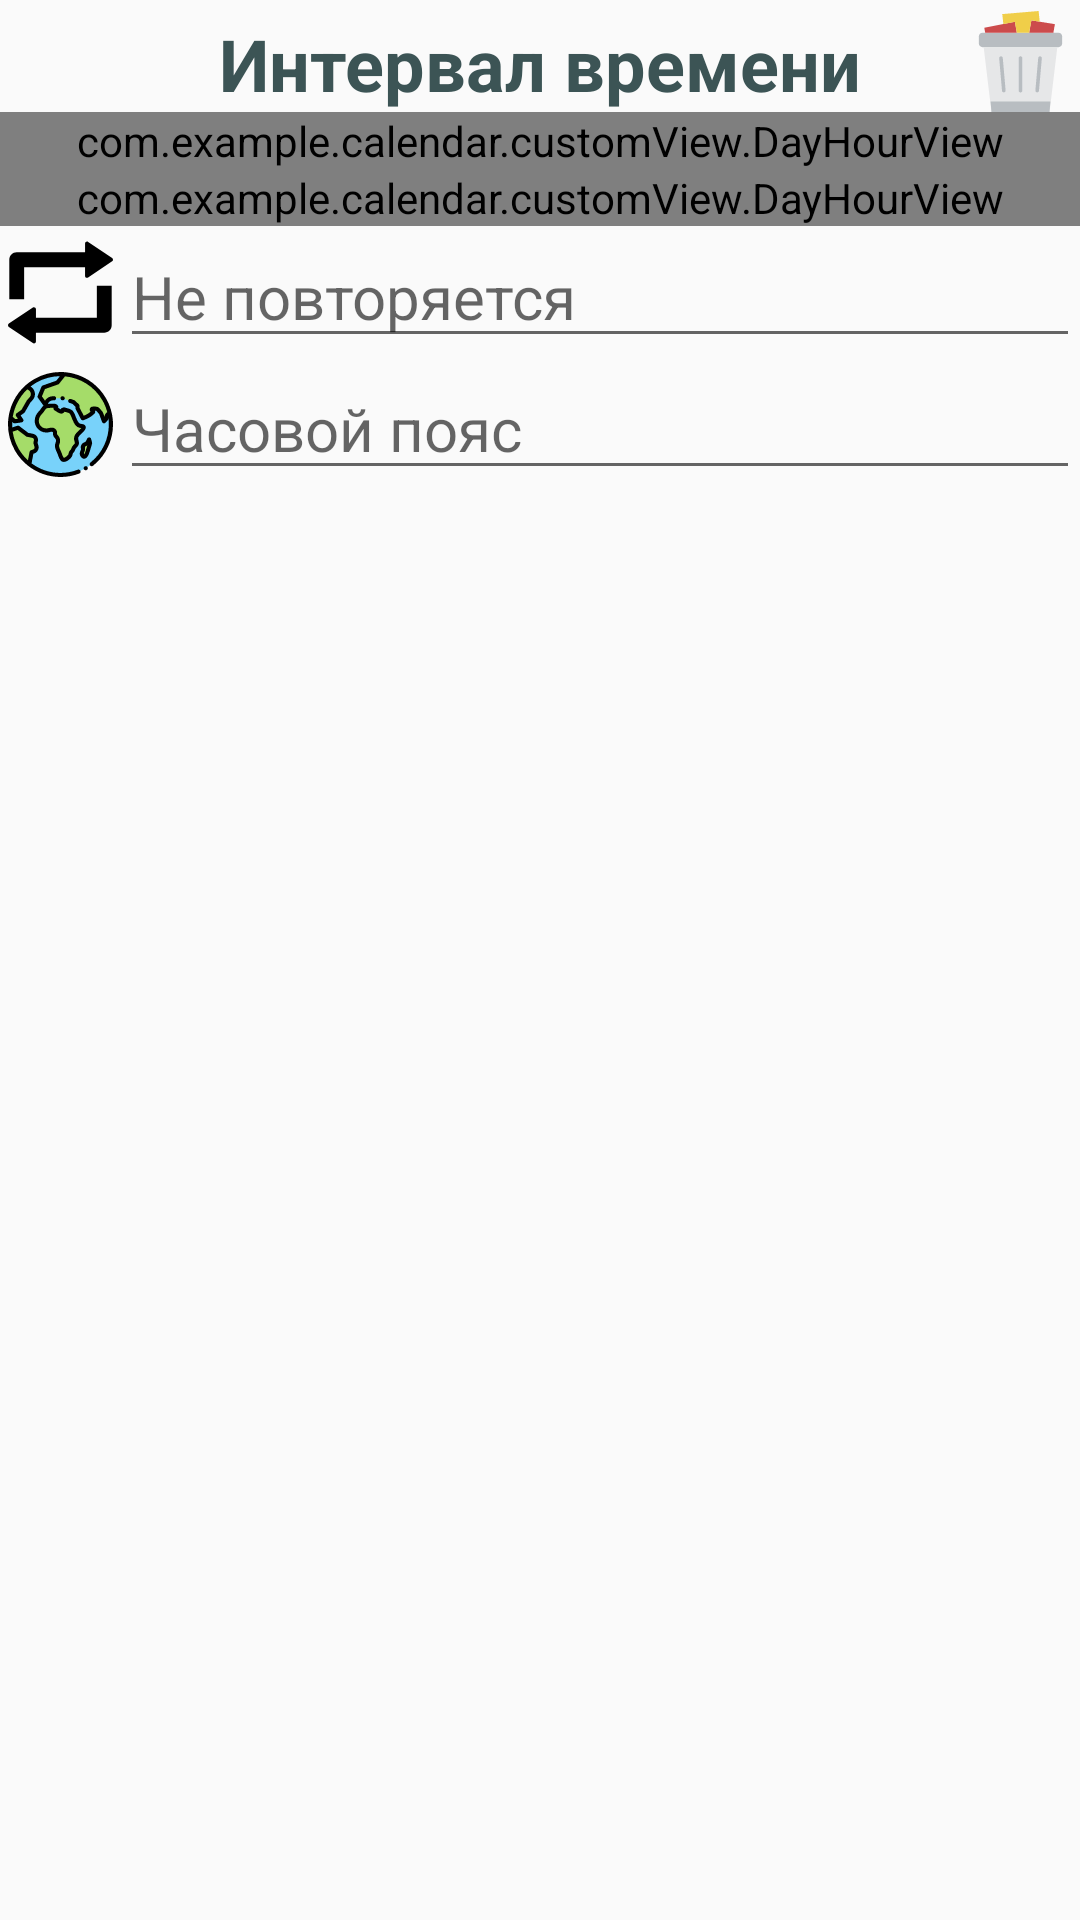

Screen size 1080×1920. Icon name, then its box in pixels as (x1, y1, x2, y2):
planet earth: (8, 372, 113, 477)
repeat: (8, 241, 113, 344)
trash: (979, 11, 1062, 93)
